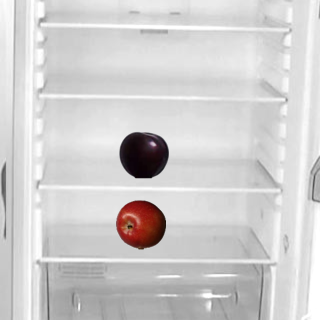Apple Braeburn: (115, 199, 165, 249)
Cherry Wax Black: (118, 129, 168, 179)
